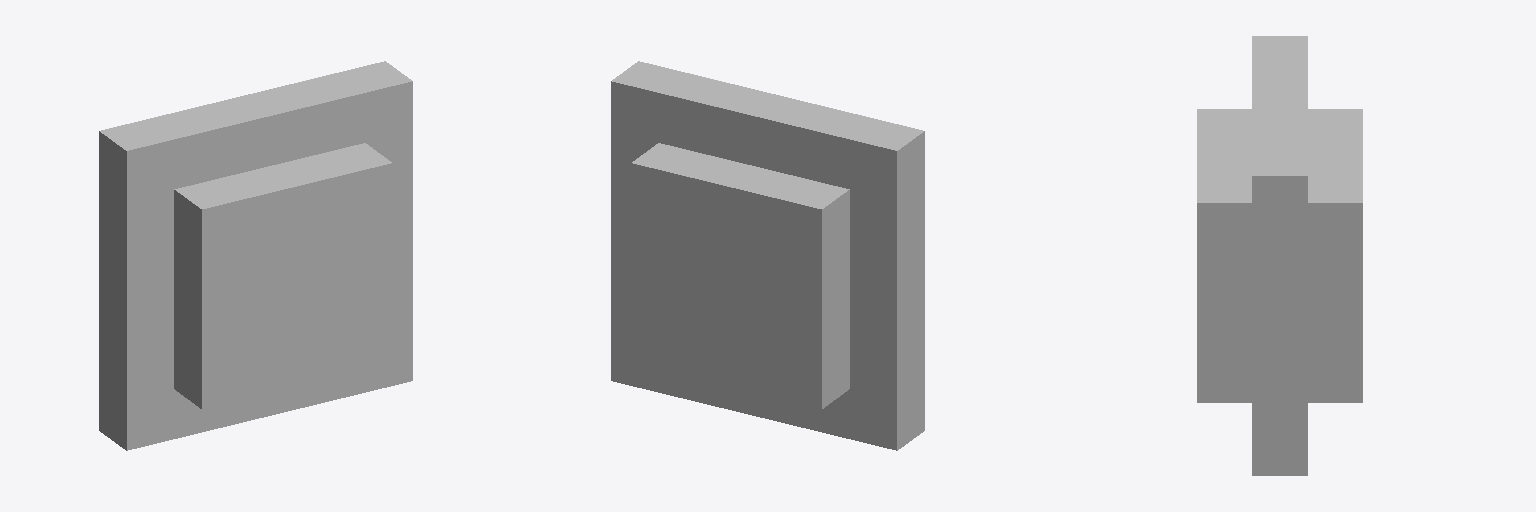
Rendered from cbCushion1_Redux.obj.
The picture shows the model from 3 angles: view 1: azimuth 30°, elevation 25°; view 2: azimuth 150°, elevation 25°; view 3: azimuth 270°, elevation 25°; orthographic projection.
Parts seen in each view (by area): view 1: cbCushion_1; view 2: cbCushion_1; view 3: cbCushion_1.
Part boxes in pixels (x1,y1,x2,y2): cbCushion_1: (99,61,412,450); cbCushion_1: (611,61,924,450); cbCushion_1: (1197,36,1362,475).
Size of the model in its own units: 0.6 by 0.6 by 0.3.